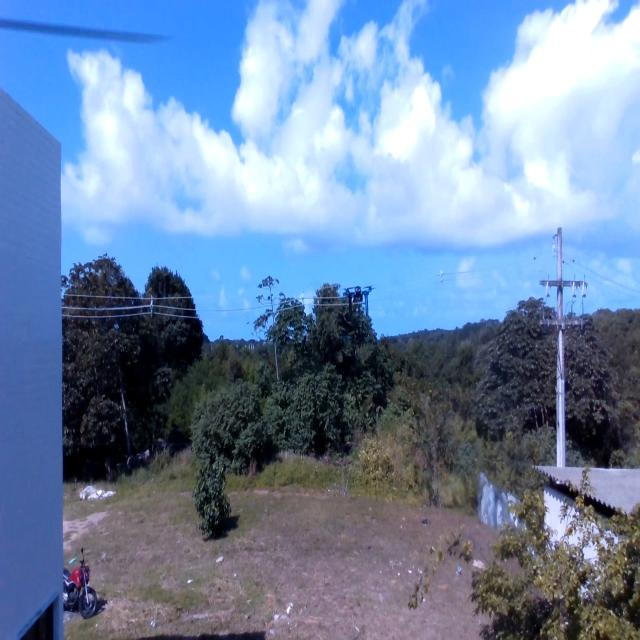-uav-: (339, 280, 384, 330)
